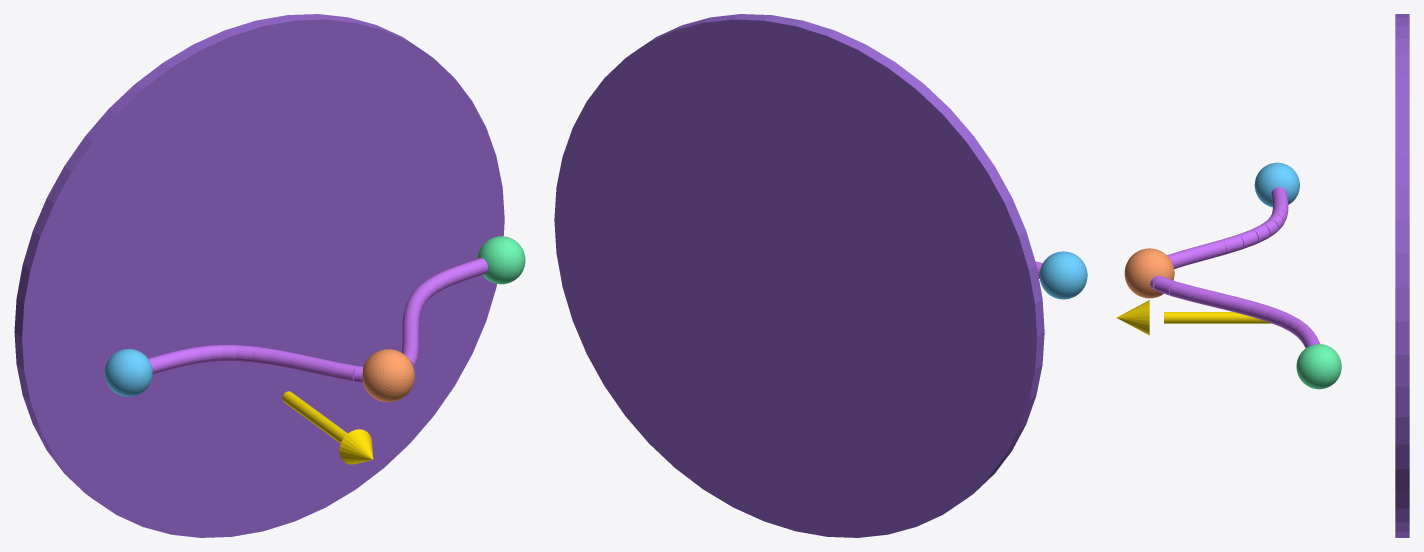
File: modelo (1).glb
The picture shows the model from 3 angles, left to right: view 1: azimuth 30°, elevation 25°; view 2: azimuth 150°, elevation 25°; view 3: azimuth 270°, elevation 25°; orthographic projection. The views are drawn at different scales.
Parts seen in each view (by area): view 1: base, estado_transicao, reagentes, produtos, Ea_ponta, Ea; view 2: base, reagentes; view 3: base, estado_transicao, produtos, reagentes, Ea, Ea_ponta, curva21, curva22.
Part boxes in pixels (<box>): base: <box>14,14,504,537</box>; estado_transicao: <box>362,349,414,402</box>; reagentes: <box>104,349,152,396</box>; produtos: <box>477,236,525,284</box>; Ea_ponta: <box>339,429,373,464</box>; Ea: <box>282,391,347,443</box>; base: <box>554,14,1044,537</box>; reagentes: <box>1039,251,1087,299</box>; base: <box>1395,14,1409,537</box>; estado_transicao: <box>1124,248,1174,298</box>; produtos: <box>1296,344,1341,389</box>; reagentes: <box>1254,162,1299,207</box>; Ea: <box>1164,312,1271,323</box>; Ea_ponta: <box>1116,300,1149,335</box>; curva21: <box>1189,286,1214,306</box>; curva22: <box>1210,291,1236,311</box>.
Bounding box in the file's own units: 0.44 × 0.44 × 0.2462.
